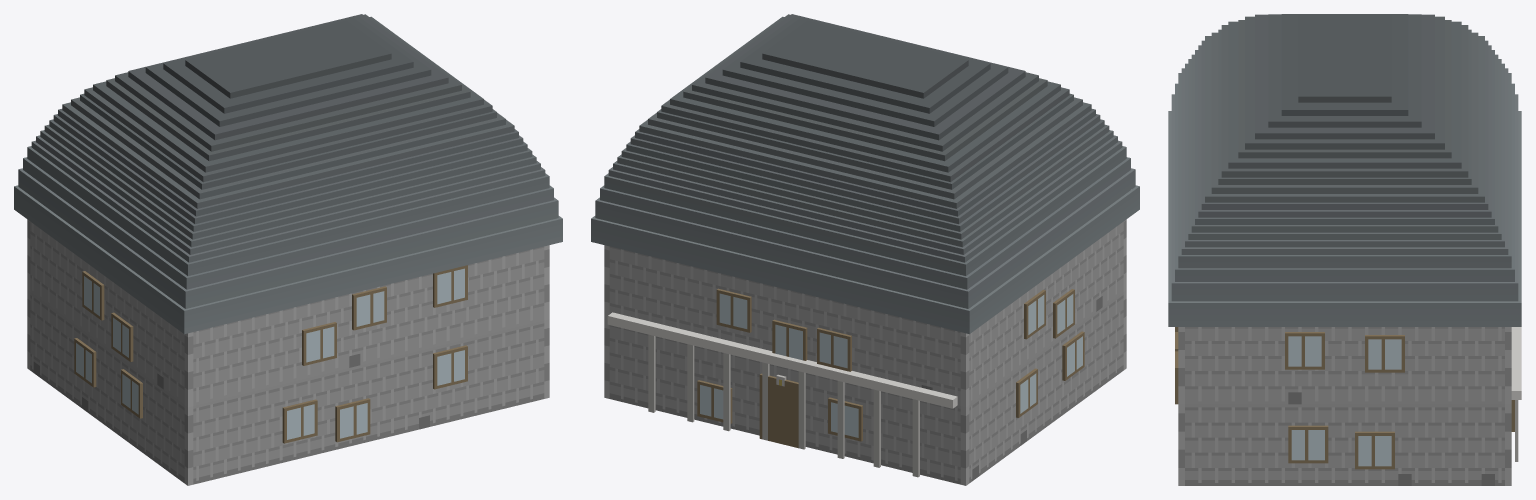
File: academia_magia_04.glb
3 renders of one model, left to right at view 1: azimuth 30°, elevation 25°; view 2: azimuth 150°, elevation 25°; view 3: azimuth 270°, elevation 25°, orthographic. The views are drawn at different scales.
Visible parts, largest first — view 1: academia_magia_04; view 2: academia_magia_04; view 3: academia_magia_04.
Boxes of the visible parts, left/top/right/bottom form: academia_magia_04: left=14, top=14, right=562, bottom=485; academia_magia_04: left=591, top=14, right=1139, bottom=485; academia_magia_04: left=1168, top=14, right=1521, bottom=485.
Bounding box in the file's own units: 13.6 × 11.2 × 10.6.
